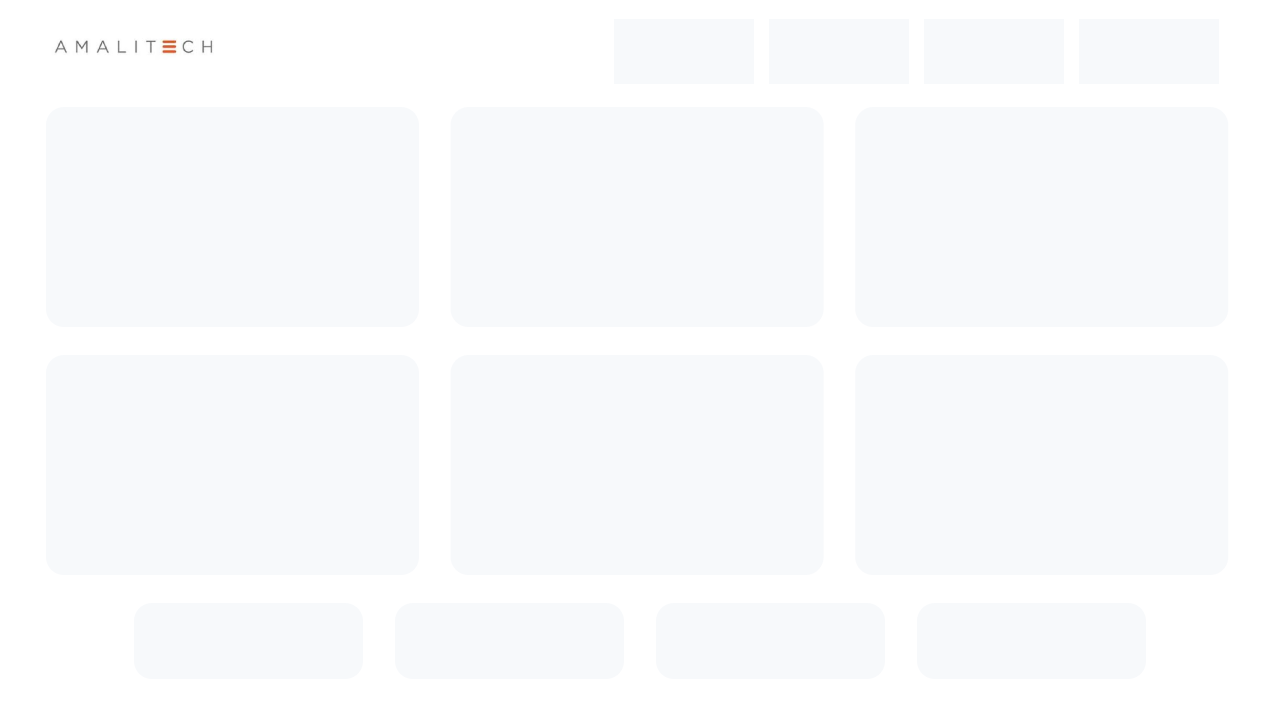

What the dashboard file says about the page in this screenshot:
{"tool":"powerbi","page":{"name":"Overview","canvas":[1280,720],"ordinal":0},"visuals":[{"type":"clusteredBarChart","title":"Graduation Status Percentage","fields":{"Category":["Participation Status.Cohort"],"Y":["Participation Status.Graduation Status"]},"box":[49,106.9,367.7,216.8],"z":0},{"type":"slicer","fields":{"Values":["Participation Status.Graduation Status"]},"box":[616,13,140,67],"z":1000},{"type":"slicer","fields":{"Values":["Participation Status.Certification Status"]},"box":[770.4,14,140.9,66.9],"z":2000},{"type":"slicer","fields":{"Values":["Participation Status.Cohort"]},"box":[925.3,14,145.9,66.9],"z":3000},{"type":"clusteredBarChart","title":"Certification Status Percentage","fields":{"Y":["Participation Status.Cohort"],"Category":["Participation Status.Certification Status"]},"box":[456.6,106.9,367.7,216.8],"z":4000},{"type":"clusteredBarChart","title":"Average Attendance","fields":{"Category":["Zoom Attendance.Attendance"],"Y":["Zoom Attendance.Duration"]},"box":[49,351.7,367.7,216.8],"z":5000},{"type":"card","fields":{"Values":["Participation Status.Total_Graduates"]},"box":[128.9,599.5,235.8,76.9],"z":6000},{"type":"card","fields":{"Values":["Participation Status.Email"]},"box":[389.7,599.5,235.8,76.9],"z":7000},{"type":"card","fields":{"Values":["Participation Status.Total_Graduates"]},"box":[652.5,599.5,235.8,76.9],"z":8000},{"type":"card","fields":{"Values":["Participation Status.Dropout(Yes)"]},"box":[911.3,599.5,235.8,76.9],"z":9000},{"type":"clusteredBarChart","title":"Average Assessment Scores","fields":{"Y":["Quizzes.Score","Labs.Score"],"Category":["Quizzes.Cohort"]},"box":[860,351.8,367.3,217.3],"z":10000},{"type":"clusteredBarChart","title":"Certification Status Percentage","fields":{"Y":["Participation Status.Cohort"],"Category":["Participation Status.Dropout"]},"box":[860,107,367,217],"z":11000},{"type":"pageNavigator","box":[1080,19,147,62],"z":12000},{"type":"barChart","title":"Average Participation","fields":{"Category":["Participation Status.Cohort"],"Y":["Participation Status.Average Participation"]},"box":[456,352,368,217],"z":13000}]}

Visuals, with their boxes in screenshot pixels (x1, y1, x2, y2), scaled from the page's 1280x720 canvas onto the 1280x720 screenshot:
"Graduation Status Percentage" clusteredBarChart: (left=49, top=107, right=417, bottom=324)
slicer - Participation Status.Graduation Status: (left=616, top=13, right=756, bottom=80)
slicer - Participation Status.Certification Status: (left=770, top=14, right=911, bottom=81)
slicer - Participation Status.Cohort: (left=925, top=14, right=1071, bottom=81)
"Certification Status Percentage" clusteredBarChart: (left=457, top=107, right=824, bottom=324)
"Average Attendance" clusteredBarChart: (left=49, top=352, right=417, bottom=568)
card - Participation Status.Total_Graduates: (left=129, top=600, right=365, bottom=676)
card - Participation Status.Email: (left=390, top=600, right=626, bottom=676)
card - Participation Status.Total_Graduates: (left=652, top=600, right=888, bottom=676)
card - Participation Status.Dropout(Yes): (left=911, top=600, right=1147, bottom=676)
"Average Assessment Scores" clusteredBarChart: (left=860, top=352, right=1227, bottom=569)
"Certification Status Percentage" clusteredBarChart: (left=860, top=107, right=1227, bottom=324)
pageNavigator: (left=1080, top=19, right=1227, bottom=81)
"Average Participation" barChart: (left=456, top=352, right=824, bottom=569)
